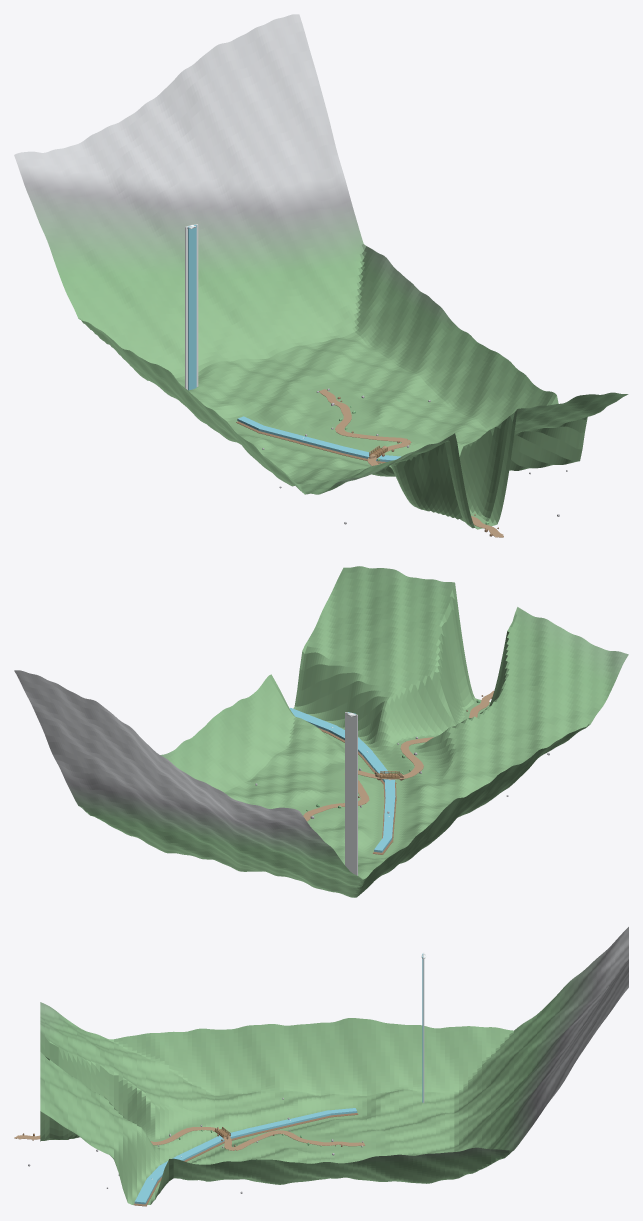
Rendered from landscape.glb.
3 renders of one model, top to bottom at view 1: azimuth 30°, elevation 25°; view 2: azimuth 150°, elevation 25°; view 3: azimuth 270°, elevation 25°, orthographic. The views are drawn at different scales.
Visible parts, largest first — view 1: Ground, WATER_Waterfall_Main, Waterfall_Spray; view 2: Ground, Waterfall_Spray; view 3: Ground.
Part boxes in pixels (left/top/right/bottom): Ground: left=14, top=14, right=628, bottom=529; WATER_Waterfall_Main: left=188, top=224, right=196, bottom=390; Waterfall_Spray: left=185, top=224, right=198, bottom=389; Ground: left=14, top=566, right=628, bottom=897; Waterfall_Spray: left=345, top=712, right=357, bottom=875; Ground: left=40, top=927, right=628, bottom=1204.
Bounding box in the file's own units: 101 × 82.15 × 209.
